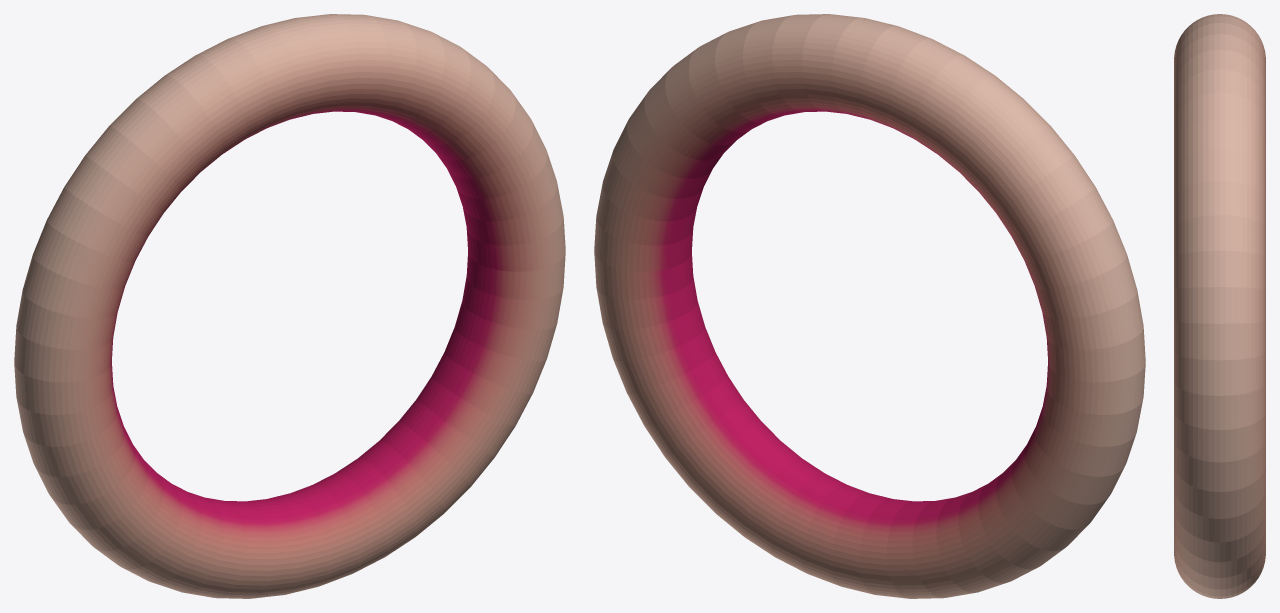
3 views of the same model, side by side, from view 1: azimuth 30°, elevation 25°; view 2: azimuth 150°, elevation 25°; view 3: azimuth 270°, elevation 25° (orthographic). The views are drawn at different scales.
Parts seen in each view (by area): view 1: world; view 2: world; view 3: world.
Boxes of the visible parts, left/top/right/bottom form: world: left=14, top=14, right=565, bottom=598; world: left=594, top=14, right=1145, bottom=598; world: left=1174, top=14, right=1265, bottom=598.
Size of the model in its own units: 34.8 by 34.73 by 5.46.
